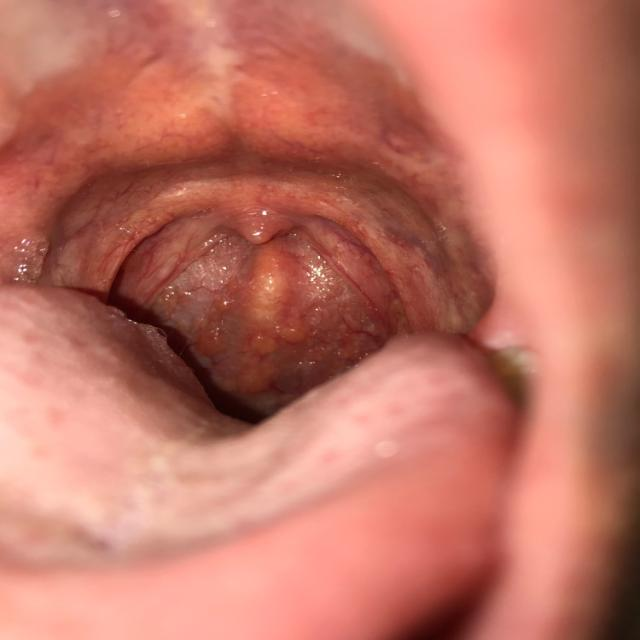Non Pharyngitis: (28, 114, 541, 421)
